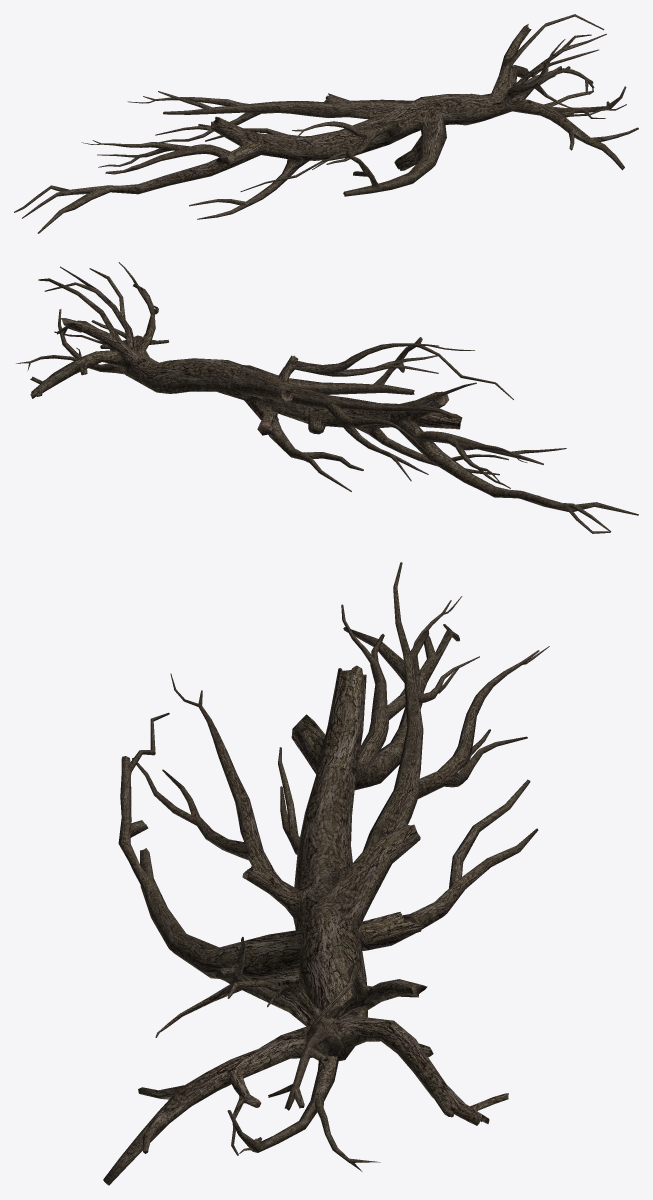
File: trees_drop_1_02.fbx
3 renders of one model, top to bottom at view 1: azimuth 30°, elevation 25°; view 2: azimuth 150°, elevation 25°; view 3: azimuth 270°, elevation 25°, orthographic. The views are drawn at different scales.
Parts seen in each view (by area): view 1: trees_drop_1_02_1; view 2: trees_drop_1_02_1; view 3: trees_drop_1_02_1.
Boxes of the visible parts, box(x1,y1,x2,y2) form: trees_drop_1_02_1: box(14, 14, 638, 233); trees_drop_1_02_1: box(16, 262, 638, 533); trees_drop_1_02_1: box(103, 562, 549, 1185).
Size of the model in its own units: 2250 by 461 by 772.
